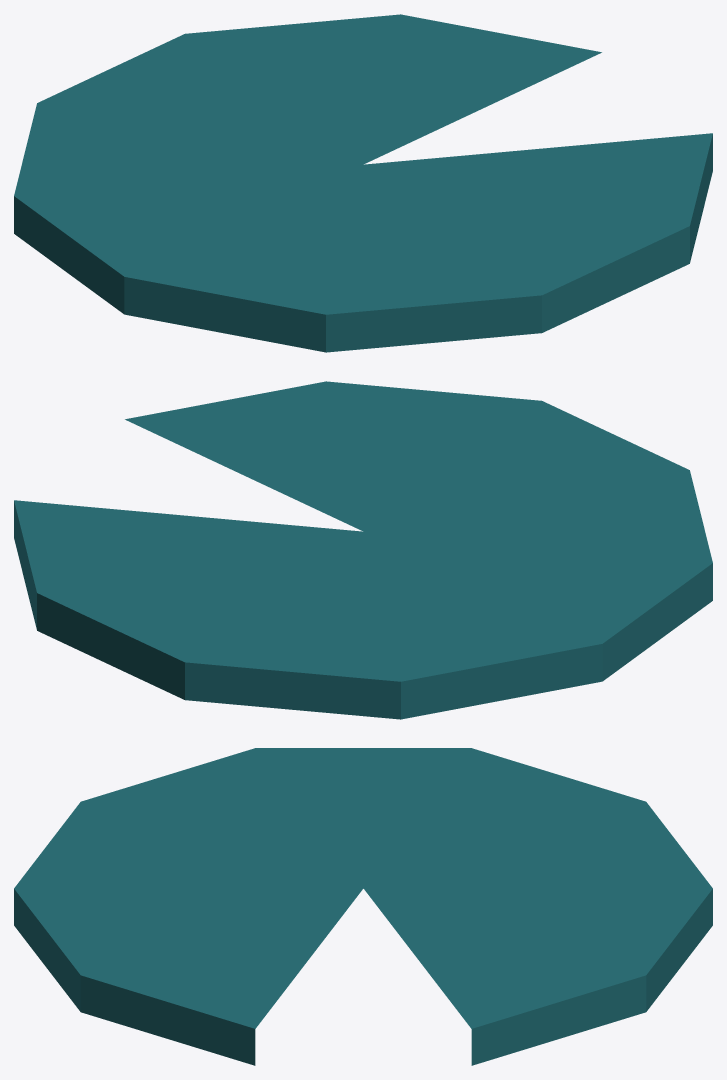
Rendered from pad.glb.
The picture shows the model from 3 angles, top to bottom: view 1: azimuth 30°, elevation 25°; view 2: azimuth 150°, elevation 25°; view 3: azimuth 270°, elevation 25°; orthographic projection. The views are drawn at different scales.
Visible parts, largest first — view 1: Pad; view 2: Pad; view 3: Pad.
Part boxes in pixels (x1,y1,x2,y2): Pad: [14, 14, 712, 352]; Pad: [14, 381, 712, 719]; Pad: [14, 748, 712, 1065].
Bounding box in the file's own units: 1.14 × 0.07 × 1.2.
